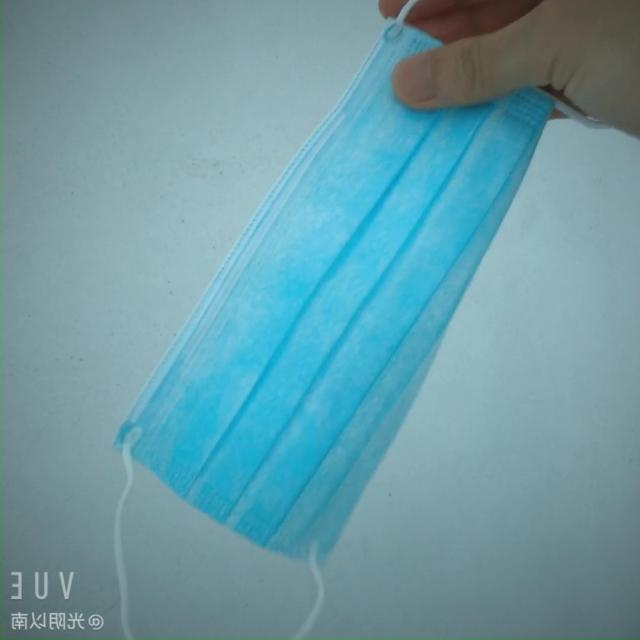face mask: (146, 25, 546, 568)
